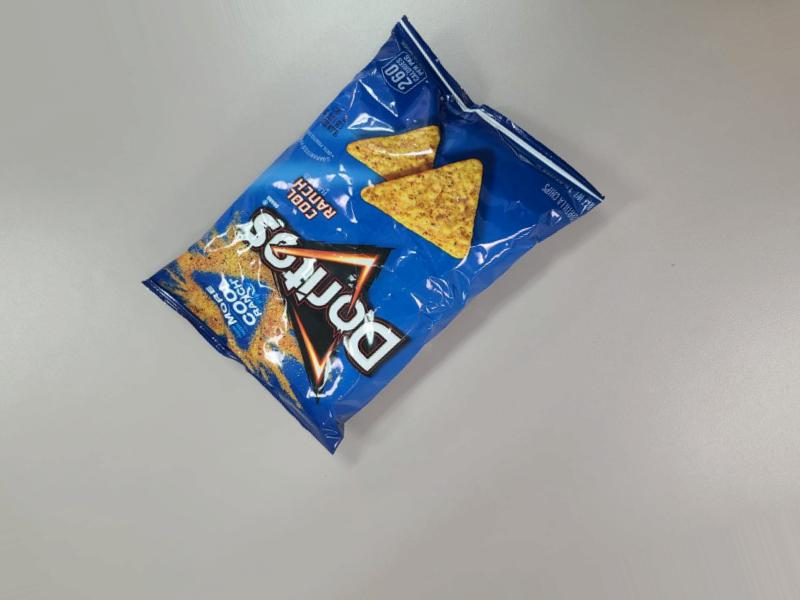doritos: (249, 21, 582, 560)
